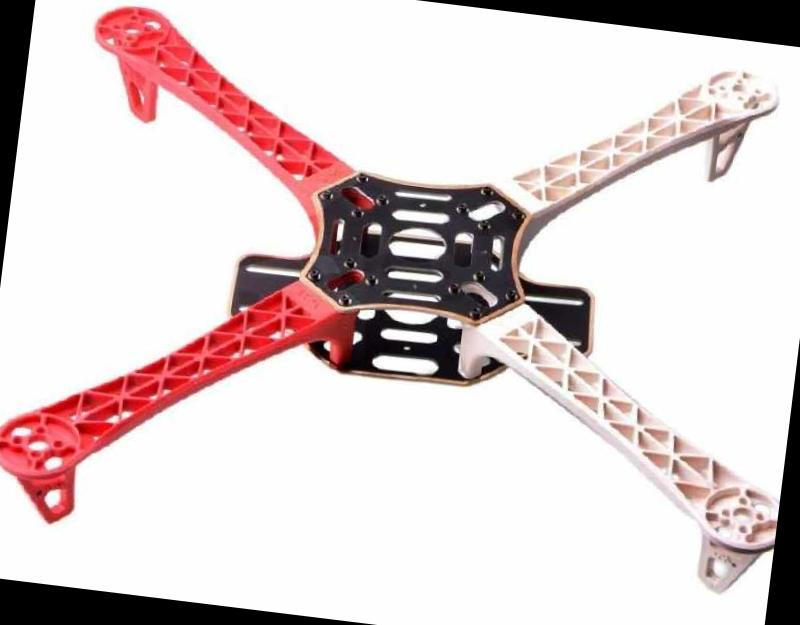drone: (0, 0, 800, 602)
